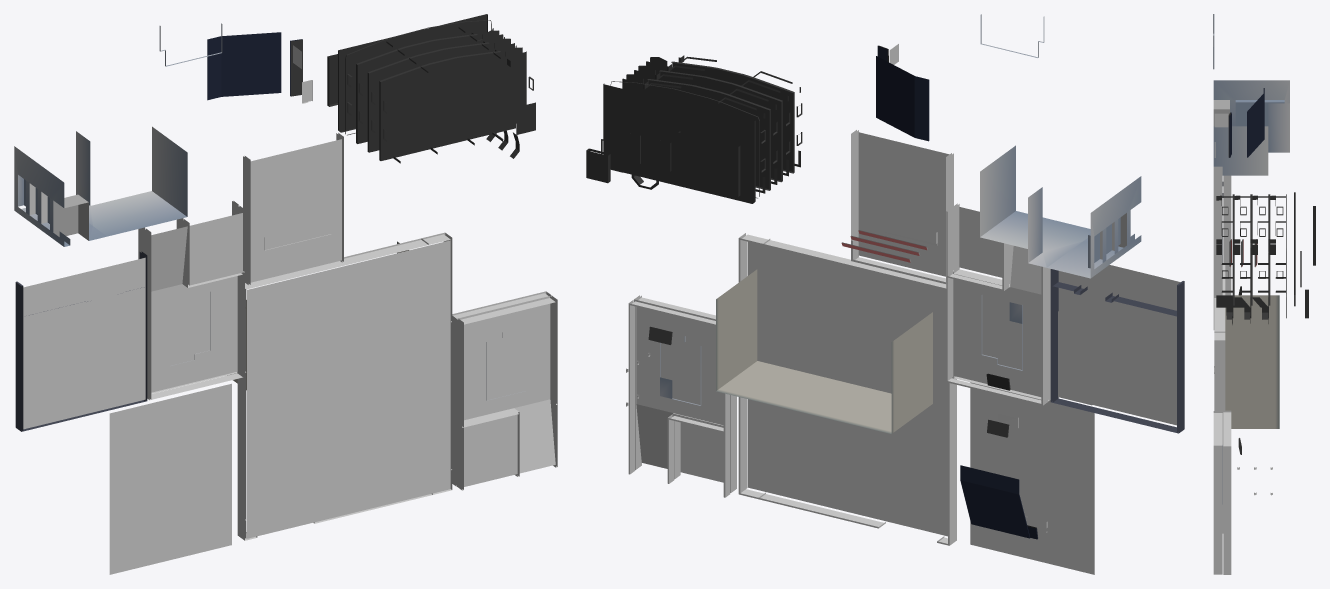
The model's file is SM_000277_merge_w40h101_atlas1_1_7_ground_lv4.fbx.
3 renders of one model, left to right at view 1: azimuth 30°, elevation 25°; view 2: azimuth 150°, elevation 25°; view 3: azimuth 270°, elevation 25°, orthographic. The views are drawn at different scales.
Parts seen in each view (by area): view 1: SM_000277.001; view 2: SM_000277.001; view 3: SM_000277.001.
Part boxes in pixels (bbox=[...]): SM_000277.001: bbox=[14, 14, 557, 574]; SM_000277.001: bbox=[586, 14, 1184, 574]; SM_000277.001: bbox=[1213, 14, 1315, 574].
Size of the model in its own units: 72.97 by 70.1 by 15.85.
